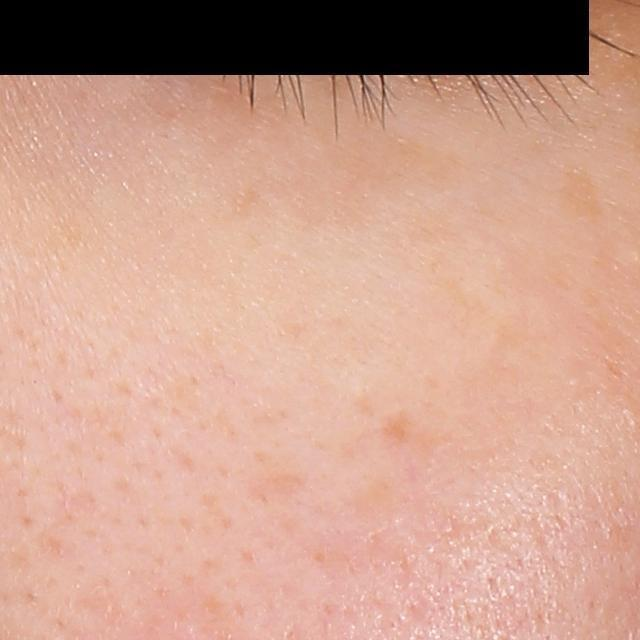melasma: (434, 280, 546, 377), (323, 135, 467, 208), (373, 410, 458, 478), (247, 457, 311, 518), (43, 222, 106, 283), (347, 473, 399, 525), (555, 167, 603, 222)
